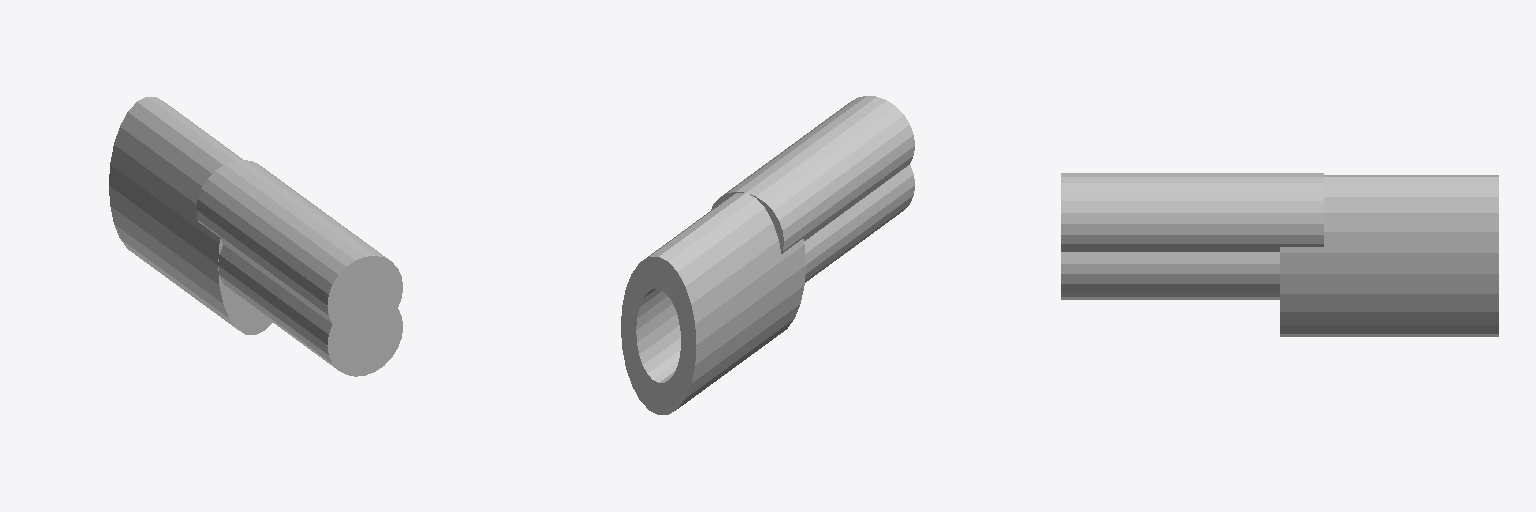
File: barrel2.model.obj
The picture shows the model from 3 angles: view 1: azimuth 30°, elevation 25°; view 2: azimuth 150°, elevation 25°; view 3: azimuth 270°, elevation 25°; orthographic projection.
Size of the model in its own units: 0.2 by 0.4 by 1.